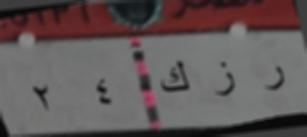2: (29, 79, 55, 115)
4: (93, 74, 114, 108)
kaaf: (157, 55, 193, 100)
raa: (262, 59, 289, 98)
zay: (213, 60, 238, 99)
